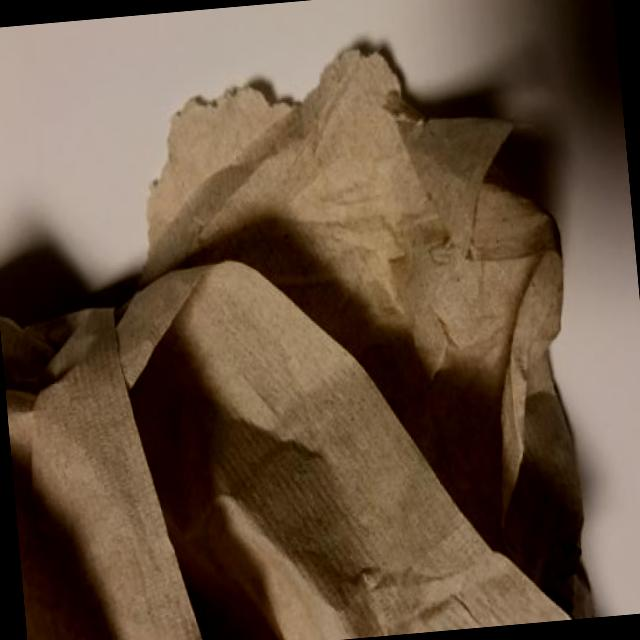Recycle: (0, 2, 596, 640)
